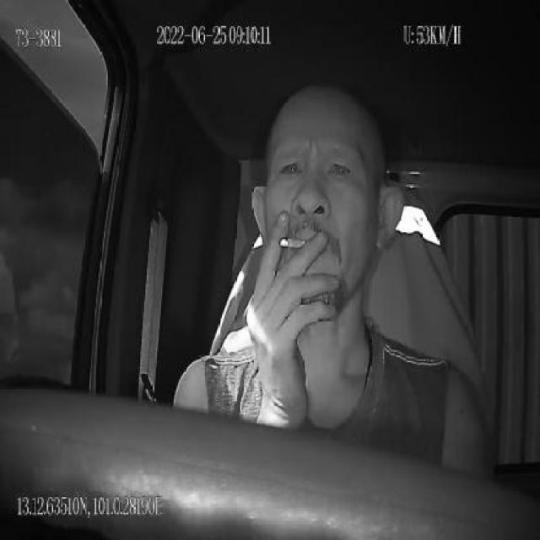smoking: (279, 237, 307, 250)
